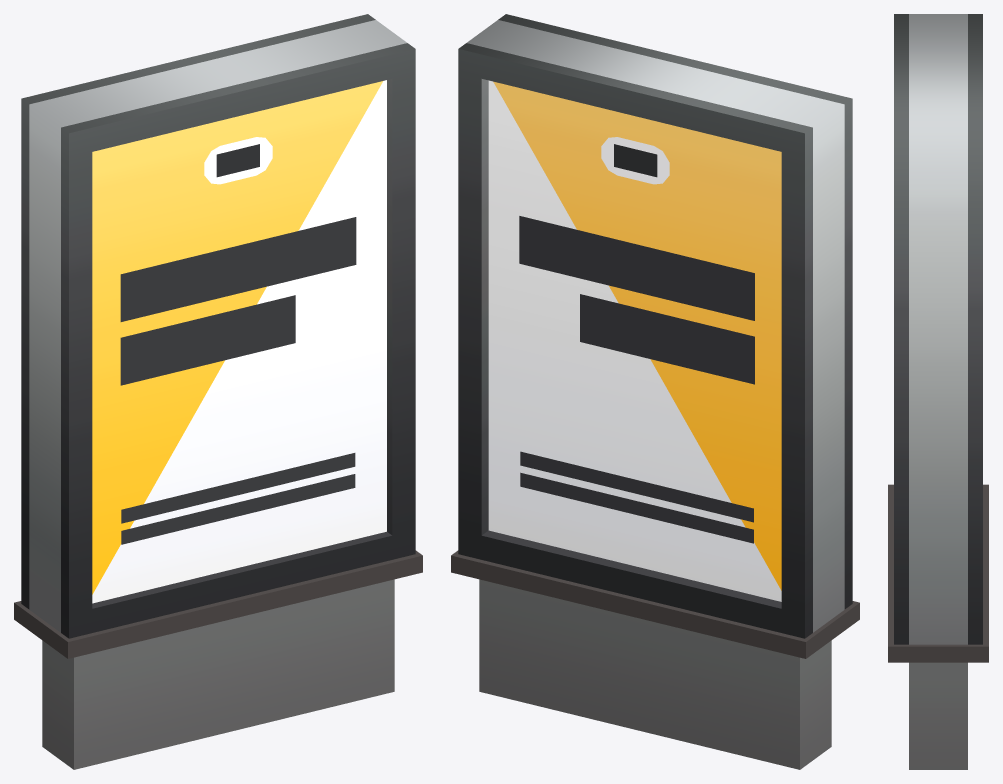
Rendered from city2-billboard-02.glb.
3 renders of one model, left to right at view 1: azimuth 30°, elevation 25°; view 2: azimuth 150°, elevation 25°; view 3: azimuth 270°, elevation 25°, orthographic. The views are drawn at different scales.
Parts seen in each view (by area): view 1: Billboard_02; view 2: Billboard_02; view 3: Billboard_02.
Boxes of the visible parts, left/top/right/bottom form: Billboard_02: left=14, top=14, right=422, bottom=769; Billboard_02: left=451, top=14, right=859, bottom=769; Billboard_02: left=888, top=14, right=988, bottom=769.
Bounding box in the file's own units: 1.19 × 2.06 × 0.3123.
1 material, 1 textured.
